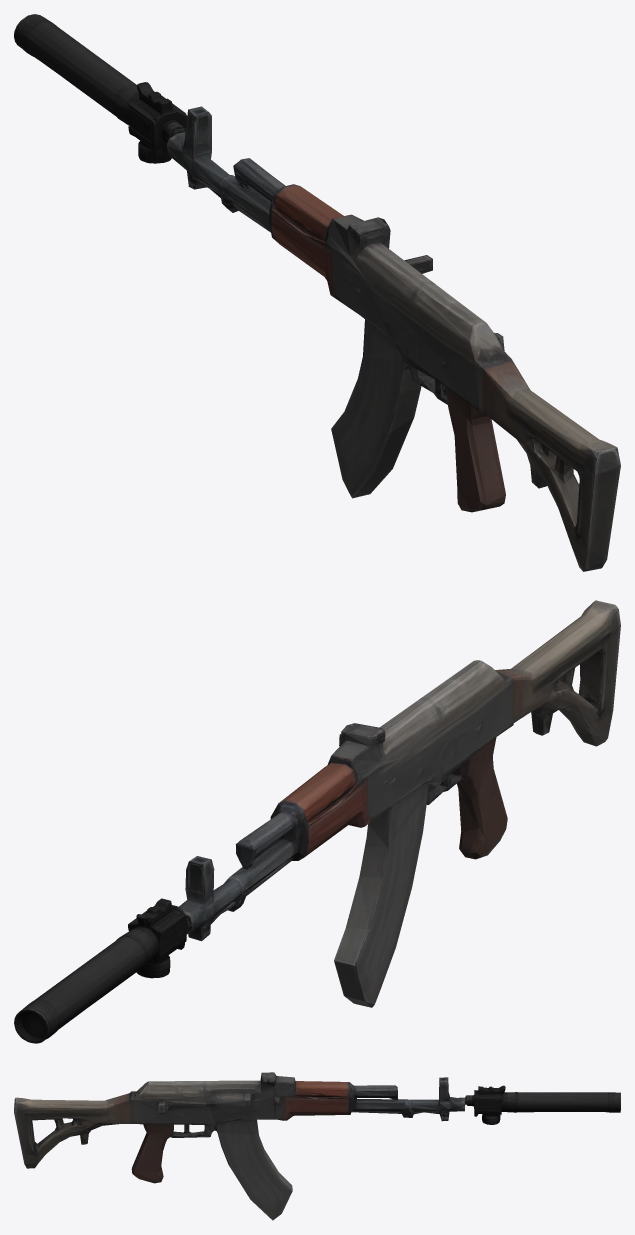
Rendered from aks74u_suppressed.glb.
The picture shows the model from 3 angles, top to bottom: view 1: azimuth 30°, elevation 25°; view 2: azimuth 150°, elevation 25°; view 3: azimuth 270°, elevation 25°; orthographic projection. The views are drawn at different scales.
Parts seen in each view (by area): view 1: aks74u_suppressed; view 2: aks74u_suppressed; view 3: aks74u_suppressed.
Boxes of the visible parts, left/top/right/bottom form: aks74u_suppressed: left=14, top=14, right=620, bottom=571; aks74u_suppressed: left=14, top=600, right=620, bottom=1043; aks74u_suppressed: left=14, top=1072, right=620, bottom=1220.
Size of the model in its own units: 0.0572 by 0.2394 by 0.9141.
2 materials, 2 textured.
